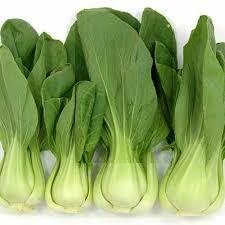Healthy-Pechay: (59, 5, 167, 203), (157, 24, 225, 199)
